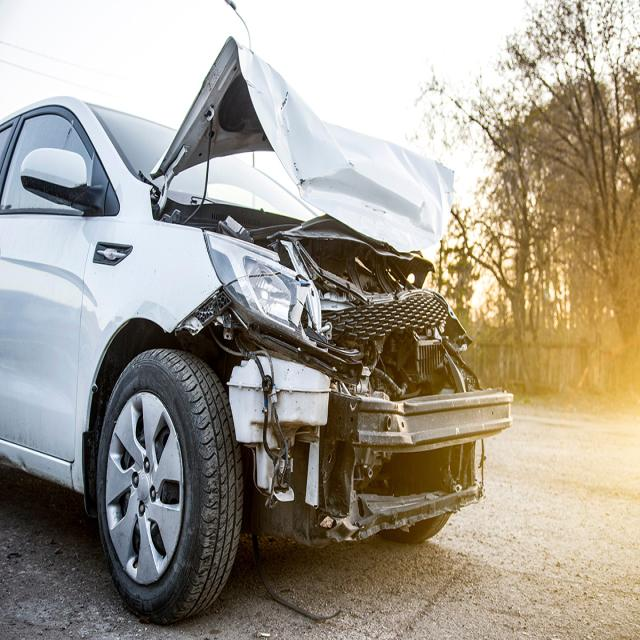crush: (151, 33, 514, 545)
